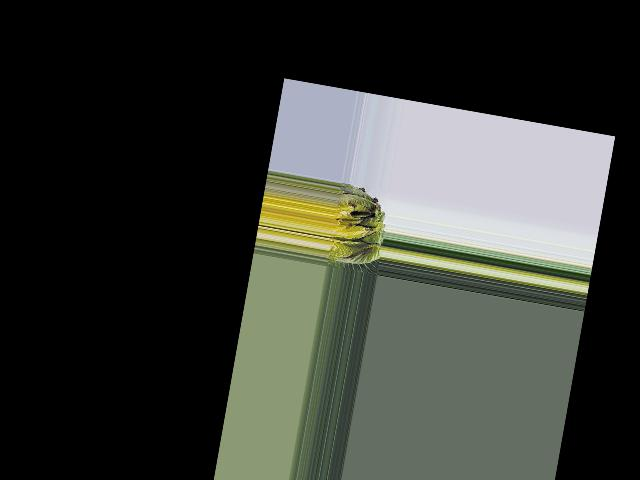lettuce: (325, 185, 389, 274)
